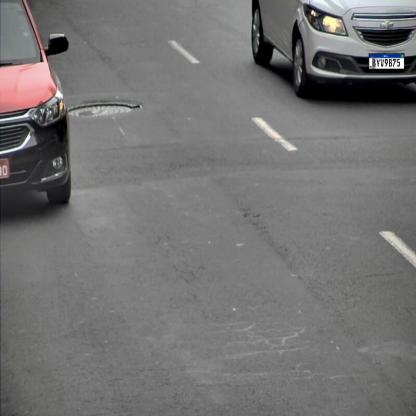PlacaM: (368, 53, 404, 70)
